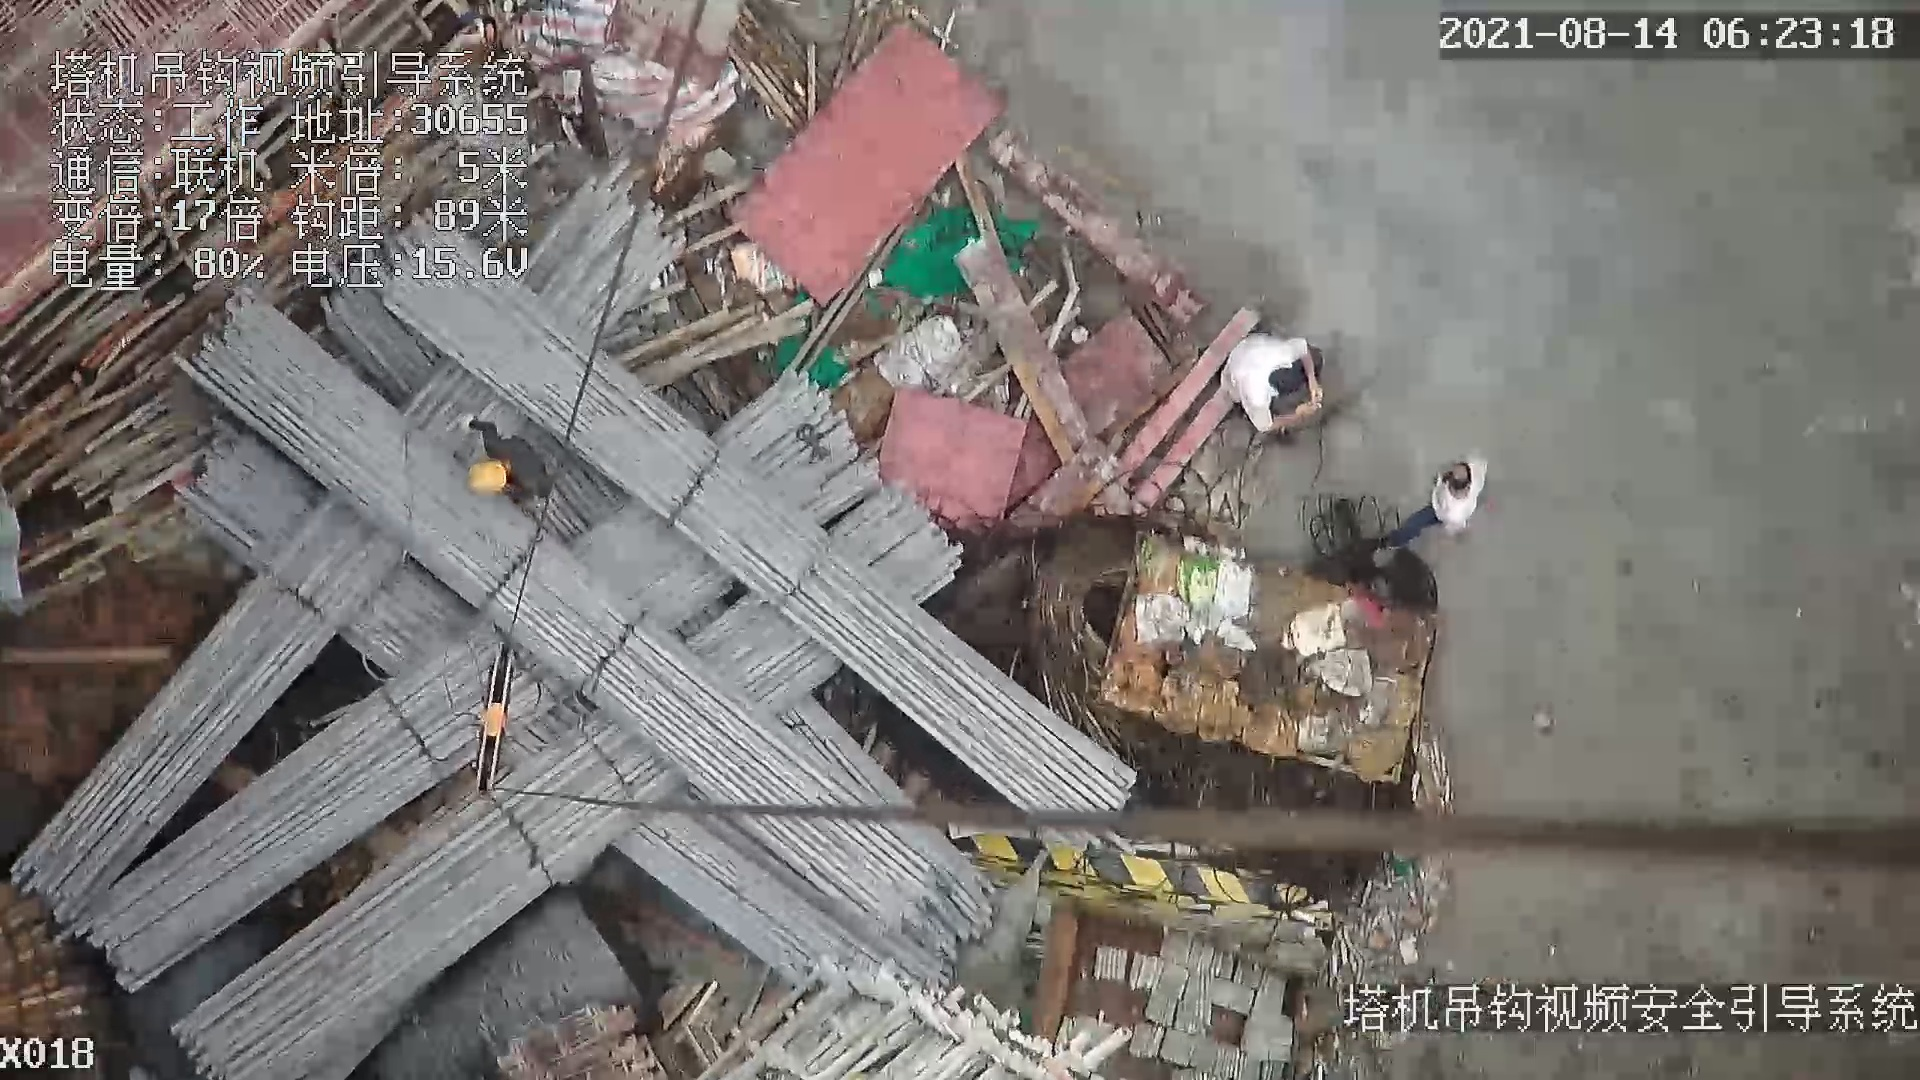board: (725, 20, 1004, 298)
helmet: (464, 463, 508, 493)
hook: (470, 641, 517, 800)
person: (1360, 451, 1487, 569), (1222, 324, 1329, 454), (445, 410, 573, 515)
